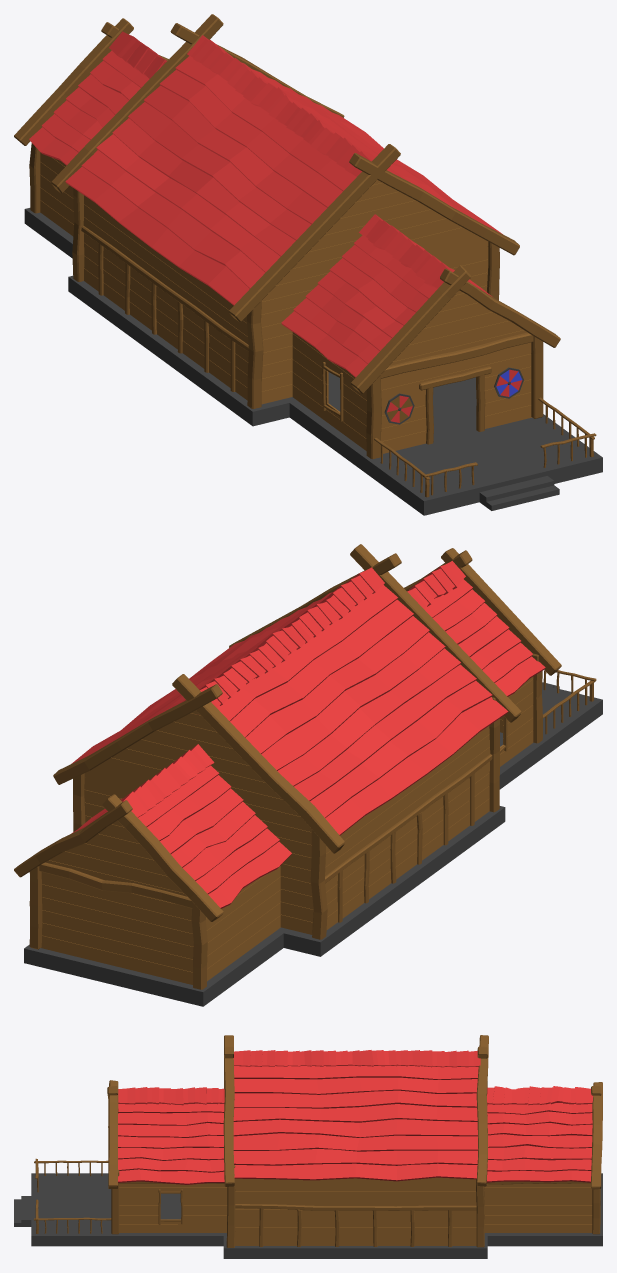
File: viking hus.fbx
3 renders of one model, top to bottom at view 1: azimuth 30°, elevation 25°; view 2: azimuth 150°, elevation 25°; view 3: azimuth 270°, elevation 25°, orthographic. The views are drawn at different scales.
Parts seen in each view (by area): view 1: Cube.002, Cube.053, Cube.009, Cube, Cube.012; view 2: Cube.002, Cube.053, Cube.009, Cube; view 3: Cube.002, Cube.053, Cube, Cube.009.
Boxes of the visible parts, x1,y1,x2,y2 form: Cube.002: (29,31,502,377); Cube.053: (40,152,531,453); Cube.009: (14,14,596,497); Cube: (24,208,602,515); Cube.012: (384,367,523,424); Cube.002: (71,561,545,908); Cube.053: (41,677,533,984); Cube.009: (14,544,596,989); Cube: (24,682,602,1006); Cube.002: (118,1050,593,1184); Cube.053: (119,1177,592,1245); Cube: (14,1173,602,1258); Cube.009: (34,1035,602,1247).
Size of the model in its own units: 1399 by 1132 by 3474.
